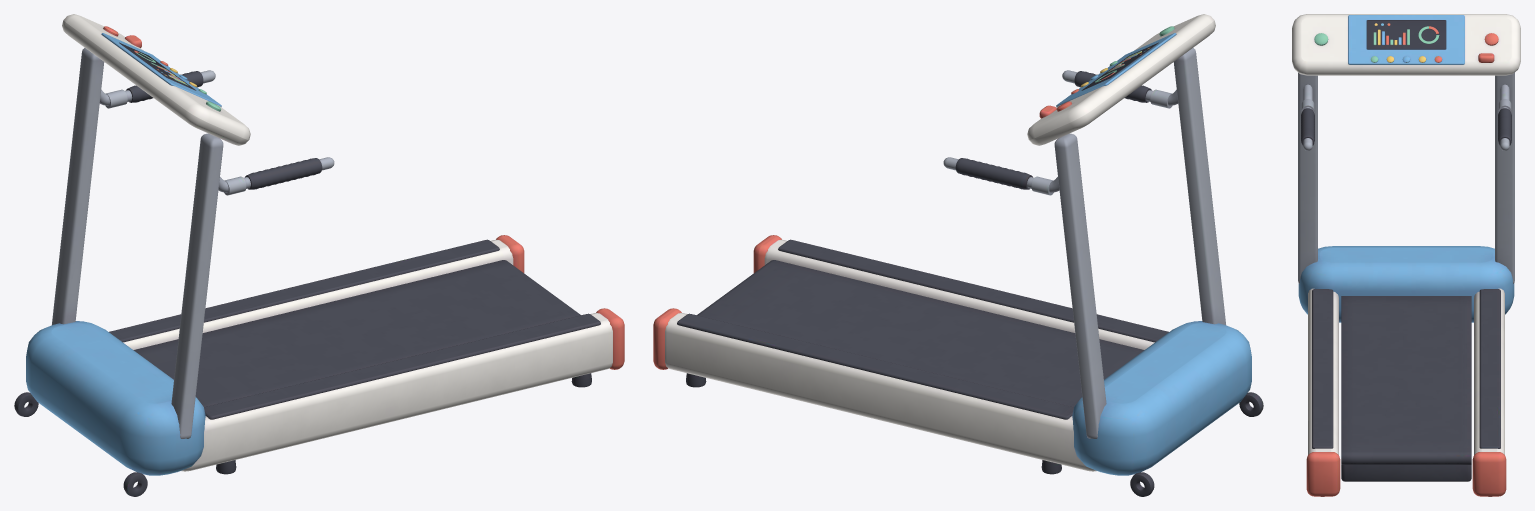
The model's file is treadmill.glb.
3 views of the same model, side by side, from view 1: azimuth 30°, elevation 25°; view 2: azimuth 150°, elevation 25°; view 3: azimuth 270°, elevation 25° (orthographic). The views are drawn at different scales.
Parts seen in each view (by area): view 1: treadmill_body; view 2: treadmill_body; view 3: treadmill_body.
Part boxes in pixels (x1,y1,x2,y2): treadmill_body: [14, 14, 624, 496]; treadmill_body: [653, 14, 1263, 496]; treadmill_body: [1292, 14, 1520, 496].
Size of the model in its own units: 1.79 by 1.32 by 0.86.
1 material, 1 textured.
